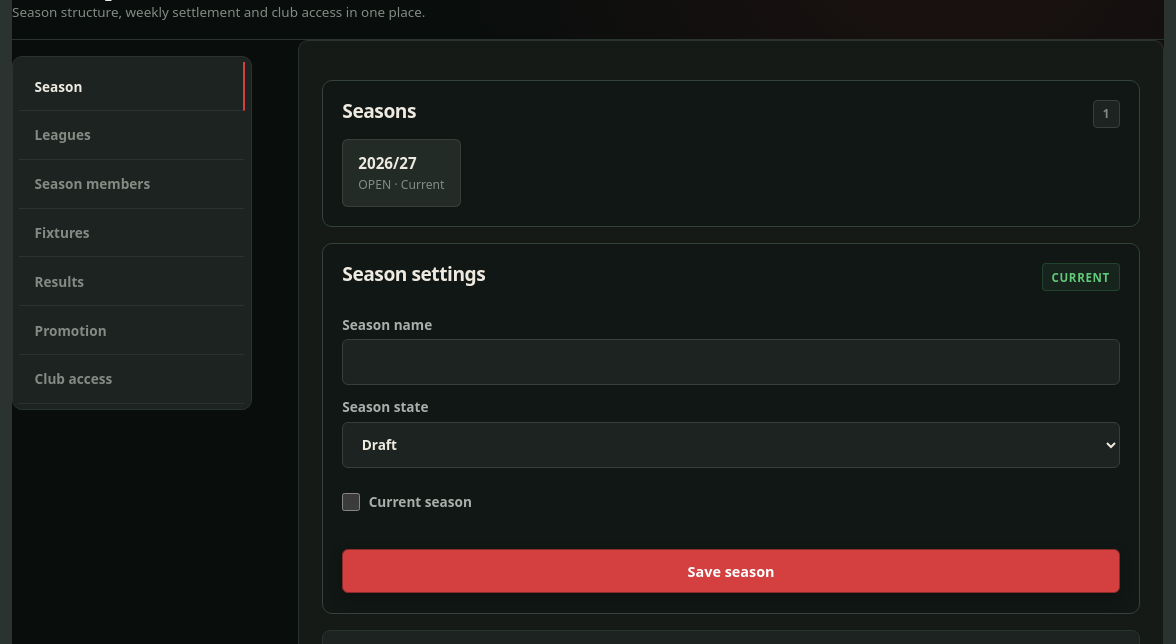
Test: admin progressive disclosure › keeps selected settings visible while secondary season and league setup stays collapsed
Expected: the heading "Season settings" is shown, [342,263,485,284]
Click the tab "Leagues": (132, 135) [19,111,245,160]
(page scrolled)
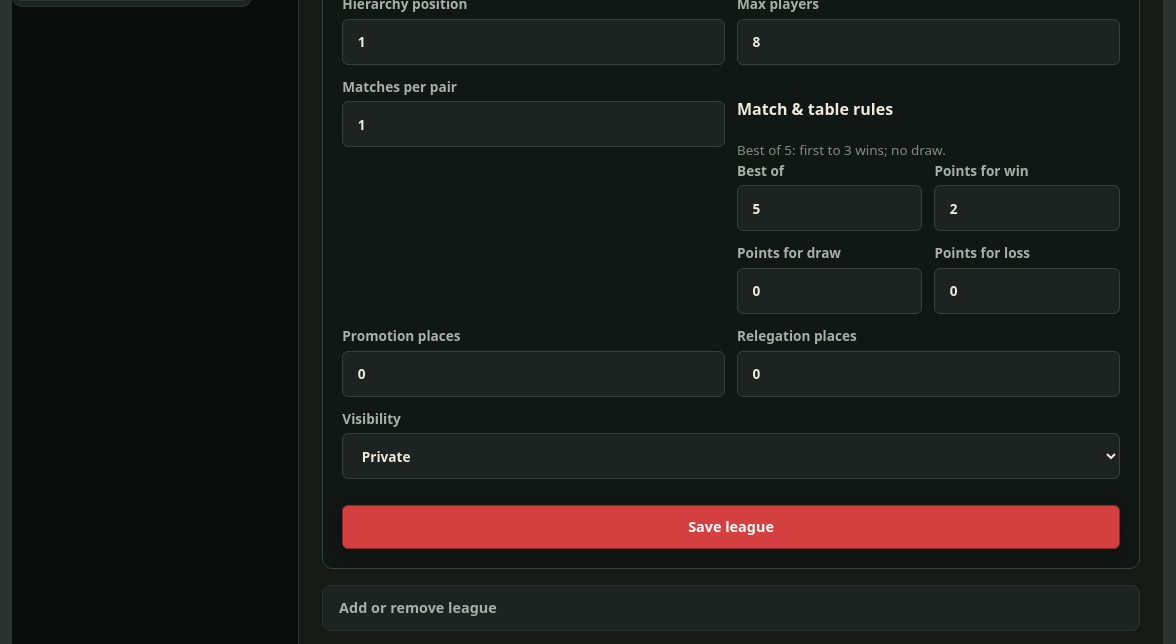
Expected: the text "Add or remove league" is shown, [322,585,1140,631]
